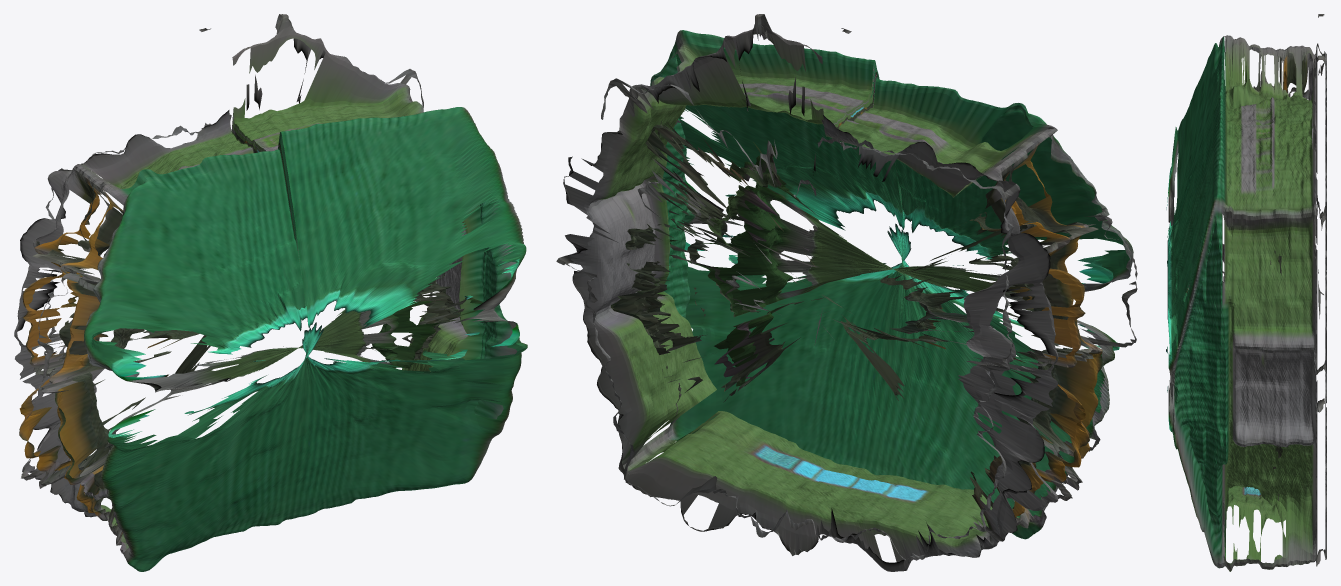
3 renders of one model, left to right at view 1: azimuth 30°, elevation 25°; view 2: azimuth 150°, elevation 25°; view 3: azimuth 270°, elevation 25°, orthographic. The views are drawn at different scales.
Visible parts, largest first — view 1: geometry_0; view 2: geometry_0; view 3: geometry_0.
Boxes of the visible parts, x1,y1,x2,y2 form: geometry_0: [14, 14, 527, 571]; geometry_0: [556, 14, 1137, 571]; geometry_0: [1166, 14, 1326, 571].
Bounding box in the file's own units: 1.84 × 1.8 × 0.5431.
Materials: 1 (1 with a texture image).
